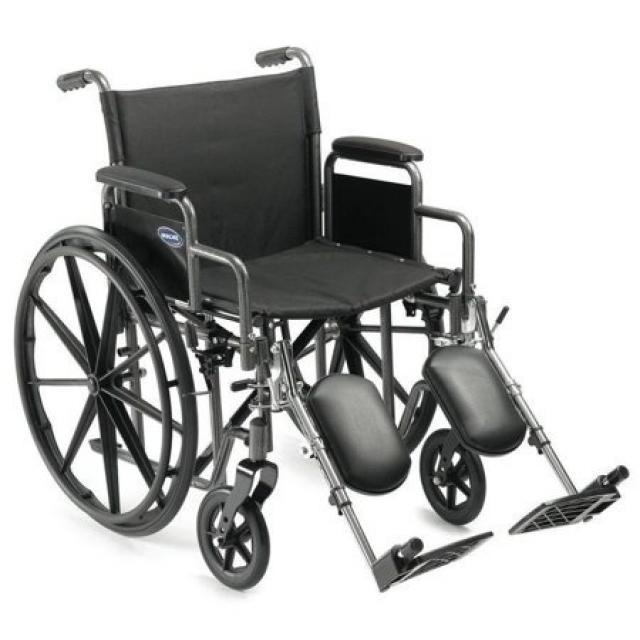wheelchair: (4, 39, 640, 603)
